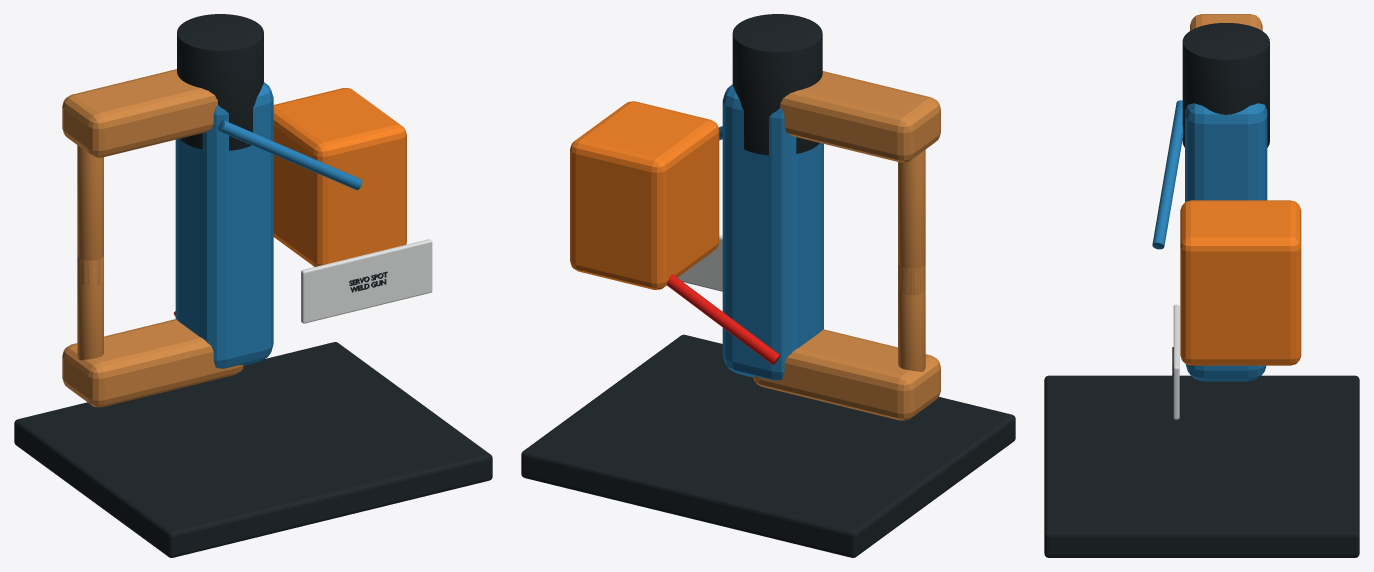
File: servo_spot_weld_gun.glb
The picture shows the model from 3 angles, left to right: view 1: azimuth 30°, elevation 25°; view 2: azimuth 150°, elevation 25°; view 3: azimuth 270°, elevation 25°; orthographic projection. The views are drawn at different scales.
Visible parts, largest first — view 1: BASE, C_GUN_BACK, ROBOT_MOUNT, UPPER_ARM, LOWER_ARM, SERVO_ACTUATOR, NAMEPLATE, KIN_MOVING_ELECTRODE, FIXED_ELECTRODE, WATER_HOSE_A; view 2: BASE, ROBOT_MOUNT, C_GUN_BACK, UPPER_ARM, LOWER_ARM, SERVO_ACTUATOR, KIN_MOVING_ELECTRODE, FIXED_ELECTRODE, WATER_HOSE_B, NAMEPLATE; view 3: BASE, ROBOT_MOUNT, C_GUN_BACK, SERVO_ACTUATOR, WATER_HOSE_A, NAMEPLATE, UPPER_ARM.
Boxes of the visible parts, x1,y1,x2,y2 form: BASE: [14, 342, 492, 557]; C_GUN_BACK: [175, 82, 273, 368]; ROBOT_MOUNT: [273, 88, 406, 266]; UPPER_ARM: [62, 69, 217, 157]; LOWER_ARM: [62, 319, 243, 407]; SERVO_ACTUATOR: [177, 14, 263, 150]; NAMEPLATE: [301, 239, 432, 323]; KIN_MOVING_ELECTRODE: [77, 145, 103, 285]; FIXED_ELECTRODE: [77, 255, 103, 360]; WATER_HOSE_A: [218, 120, 362, 190]; BASE: [521, 334, 1015, 557]; ROBOT_MOUNT: [570, 101, 719, 289]; C_GUN_BACK: [722, 84, 823, 380]; UPPER_ARM: [780, 71, 940, 162]; LOWER_ARM: [753, 329, 940, 420]; SERVO_ACTUATOR: [732, 14, 822, 155]; KIN_MOVING_ELECTRODE: [898, 149, 925, 294]; FIXED_ELECTRODE: [898, 263, 925, 371]; WATER_HOSE_B: [667, 274, 780, 364]; NAMEPLATE: [677, 235, 722, 291]; BASE: [1044, 375, 1359, 557]; ROBOT_MOUNT: [1180, 200, 1301, 365]; C_GUN_BACK: [1185, 103, 1267, 381]; SERVO_ACTUATOR: [1182, 23, 1269, 147]; WATER_HOSE_A: [1152, 100, 1183, 249]; NAMEPLATE: [1173, 304, 1179, 419]; UPPER_ARM: [1190, 14, 1262, 30].
Bounding box in the file's own units: 1.58 × 1.95 × 1.3.
